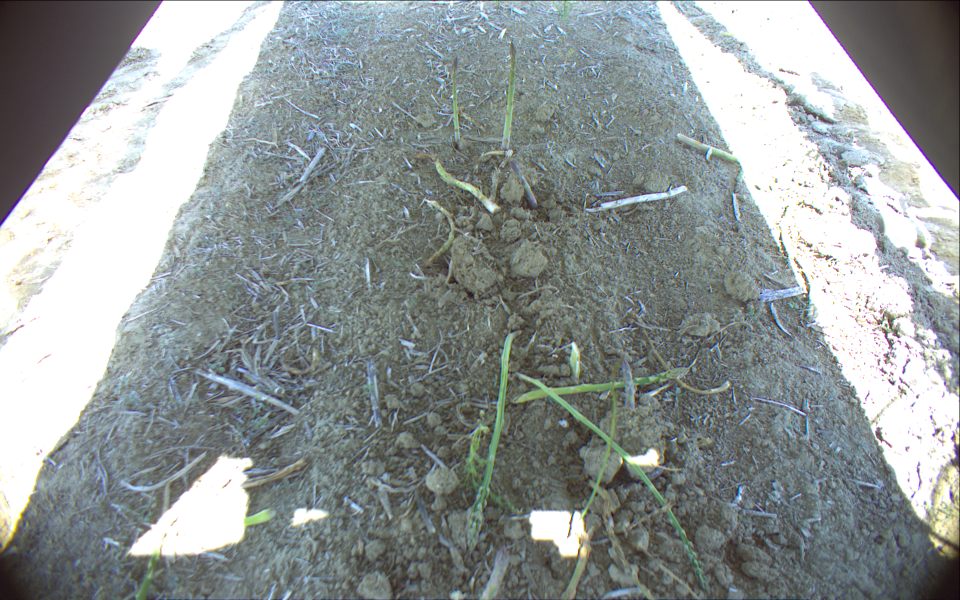aspa: (513, 371, 710, 589), (460, 332, 512, 551), (512, 368, 690, 407), (575, 384, 618, 529), (130, 511, 184, 600), (436, 159, 501, 213), (183, 506, 278, 535), (468, 547, 512, 600), (423, 197, 455, 266), (500, 42, 517, 154), (678, 132, 734, 166), (510, 161, 539, 209), (452, 56, 462, 150), (621, 357, 637, 412)
